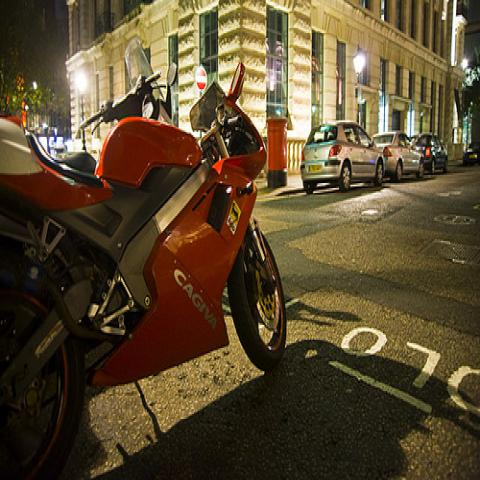car: (301, 122, 385, 198), (373, 131, 424, 182), (411, 133, 449, 176), (462, 141, 480, 166)
motorcycle: (0, 63, 288, 475), (55, 40, 180, 173)
